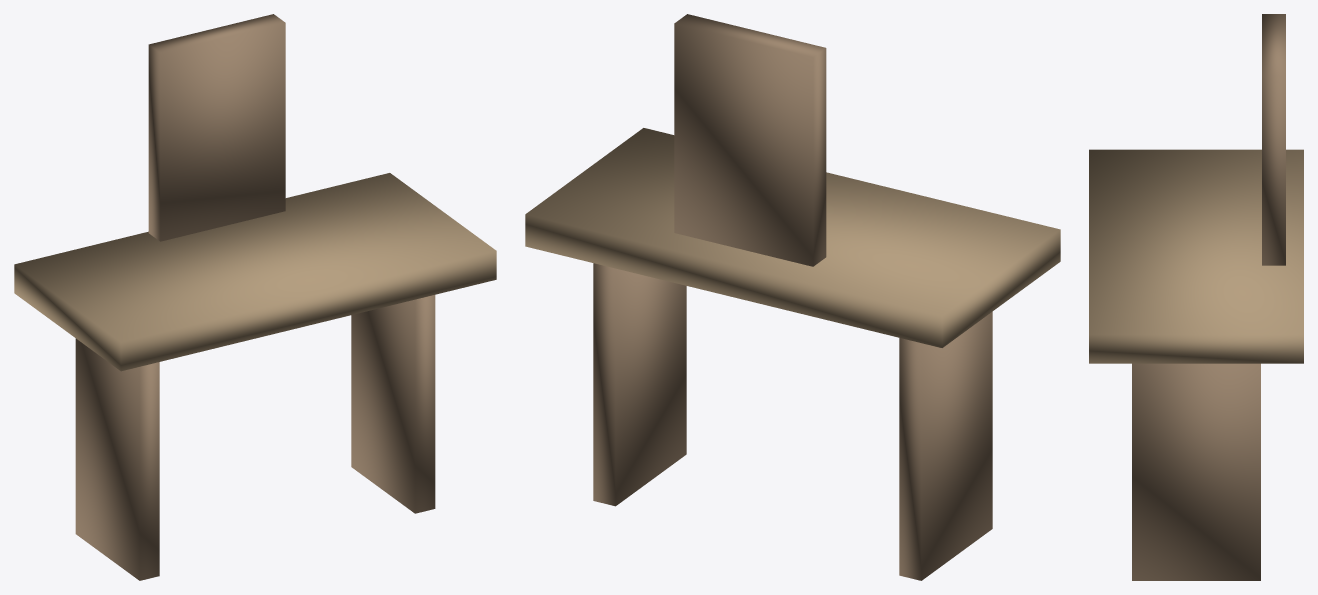
Rendered from altar_table__compact.glb.
The picture shows the model from 3 angles, left to right: view 1: azimuth 30°, elevation 25°; view 2: azimuth 150°, elevation 25°; view 3: azimuth 270°, elevation 25°; orthographic projection. The views are drawn at different scales.
Parts seen in each view (by area): view 1: world; view 2: world; view 3: world.
Boxes of the visible parts, bbox=[...] form: world: bbox=[14, 14, 496, 580]; world: bbox=[525, 14, 1060, 580]; world: bbox=[1089, 14, 1303, 580].
Size of the model in its own units: 1.26 by 1.47 by 0.6192.
